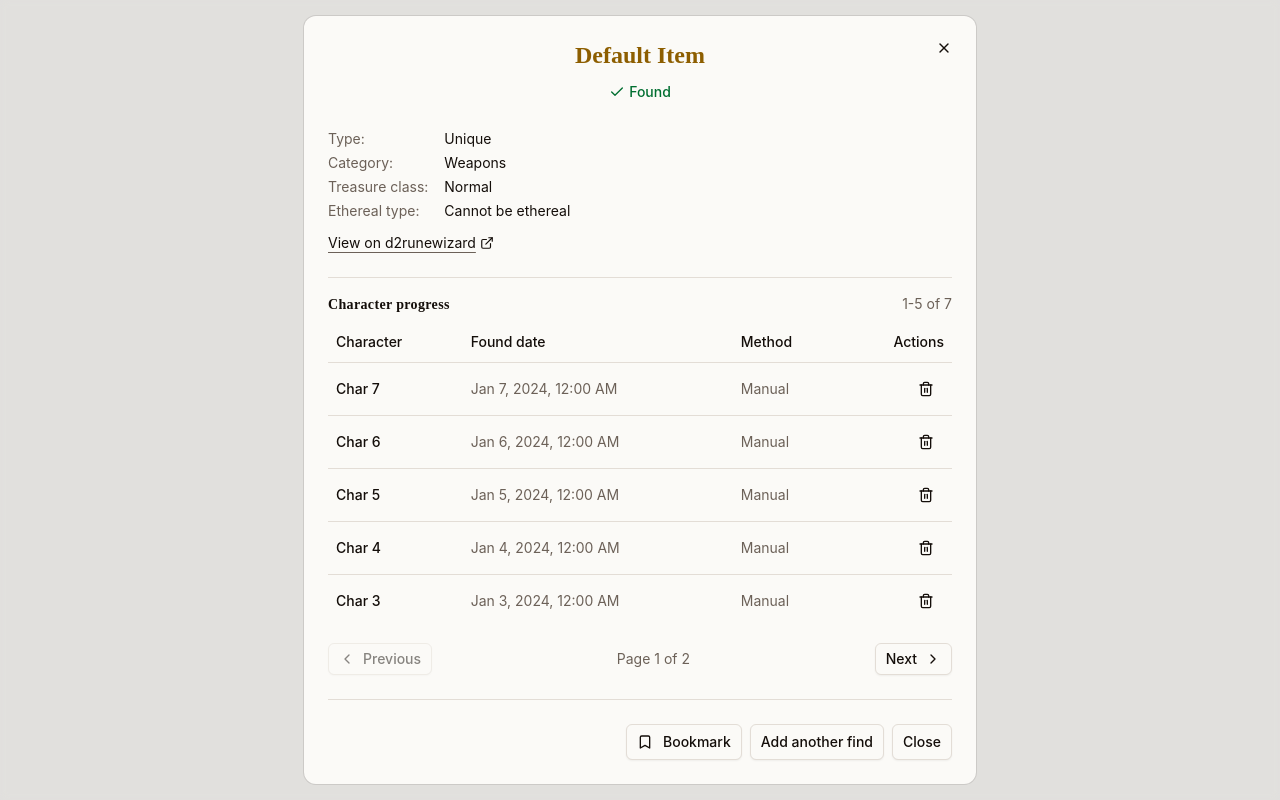
Test: When ItemDetailsDialog is rendered › If > 5 characters (pagination) › Then Next click advances page
The width and height of the screenshot is (1280, 800).
Click the button "Next" at (913, 658), box [875,642,952,674]
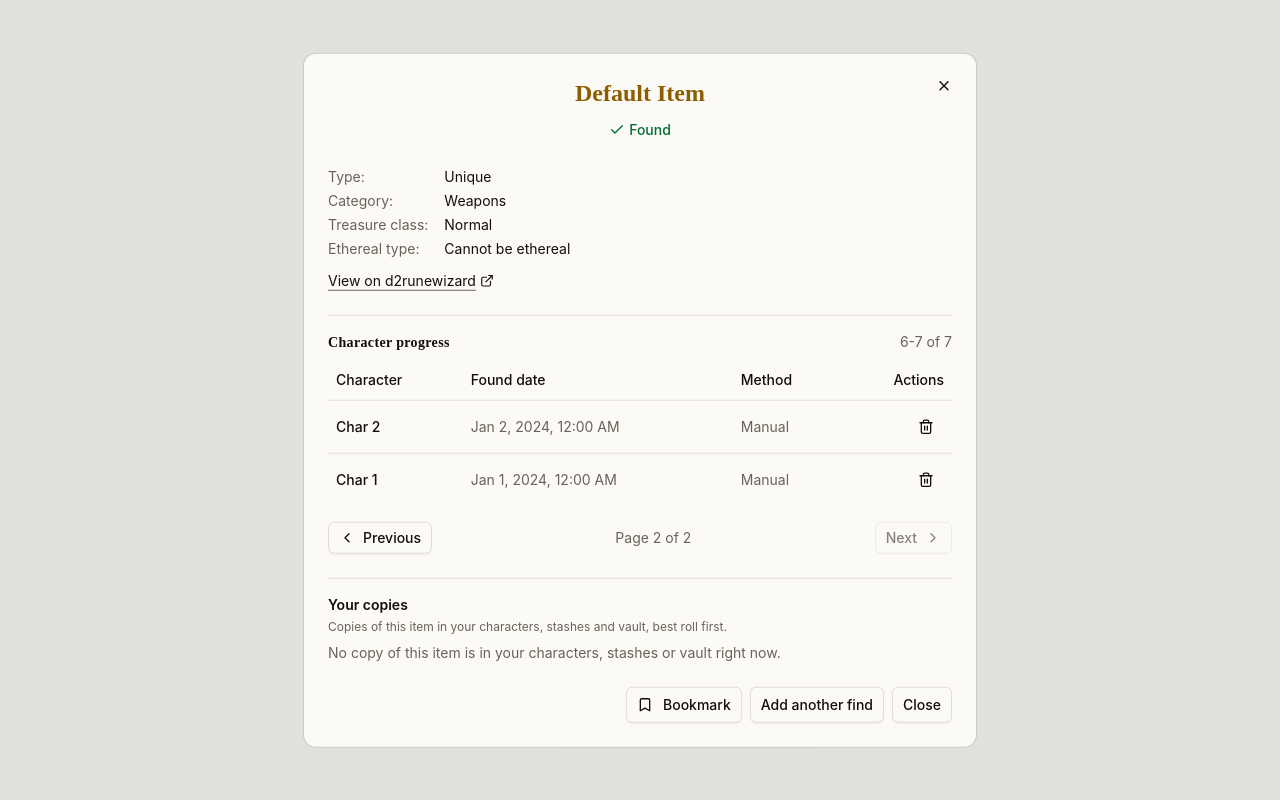
Check: the text "6-7 of 7" is shown, box [900,332,952,352]
